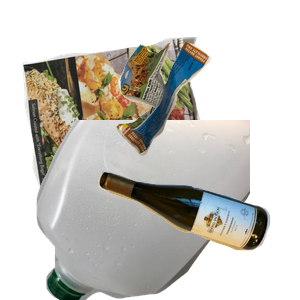glass: (95, 168, 300, 300)
paper: (20, 34, 221, 214)
plastic: (34, 120, 274, 300)
trash: (114, 39, 300, 188)
